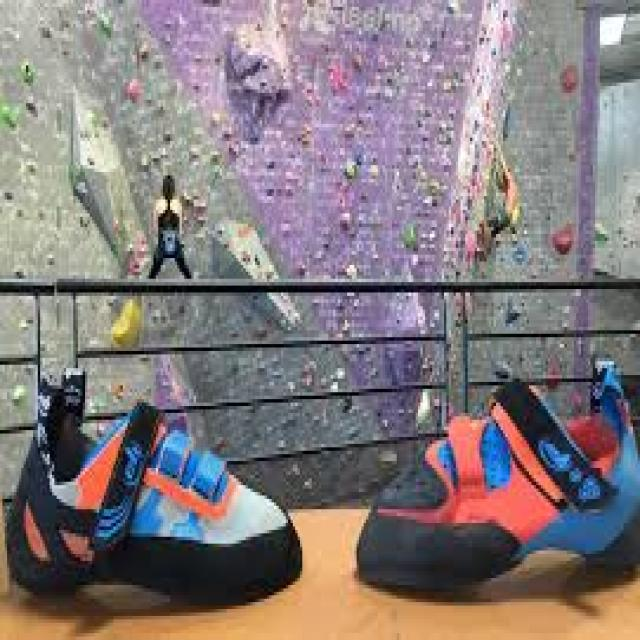climbing-shoes: (9, 370, 304, 607), (356, 366, 640, 598)
